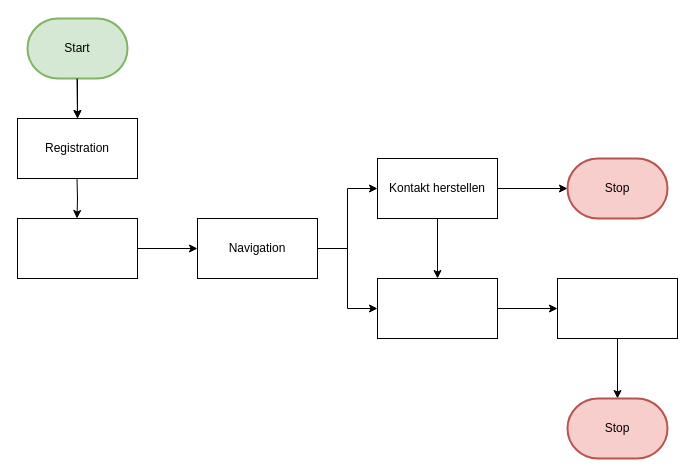
Some shapes in this 695 by 476 pixel diagram are drawn without their labels. The shapes that lost their labels are listed below. From the top down, each one's box as (x1, y1, x2, y2) in pixels, then its label:
(16, 218, 138, 278): Verifikation
(376, 278, 498, 338): Terminkalender
(556, 278, 678, 338): Zeitraum reservieren
